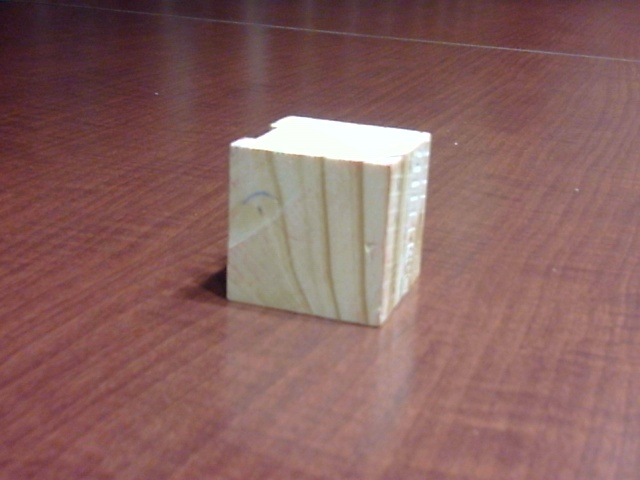NormalBlock: (227, 145, 398, 327)
